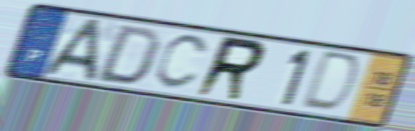1: (279, 48, 313, 108)
A: (40, 18, 106, 83)
C: (151, 33, 212, 92)
D: (92, 23, 164, 87), (297, 48, 364, 116)
R: (191, 34, 269, 104)
